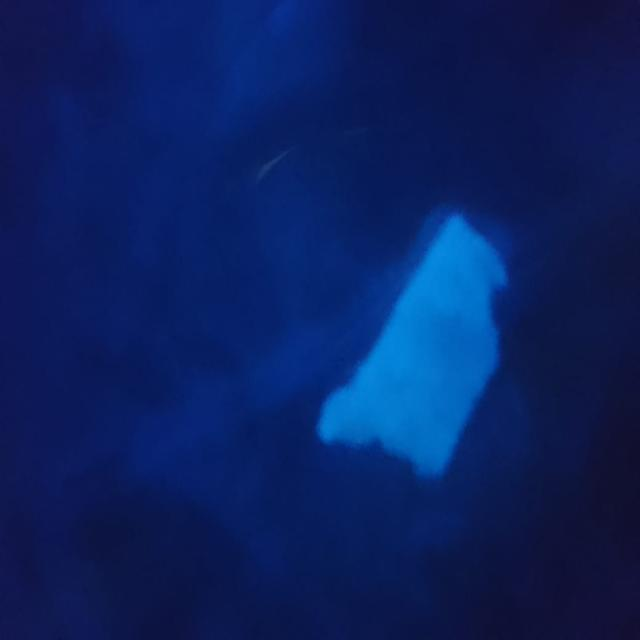litter: (305, 189, 504, 491)
